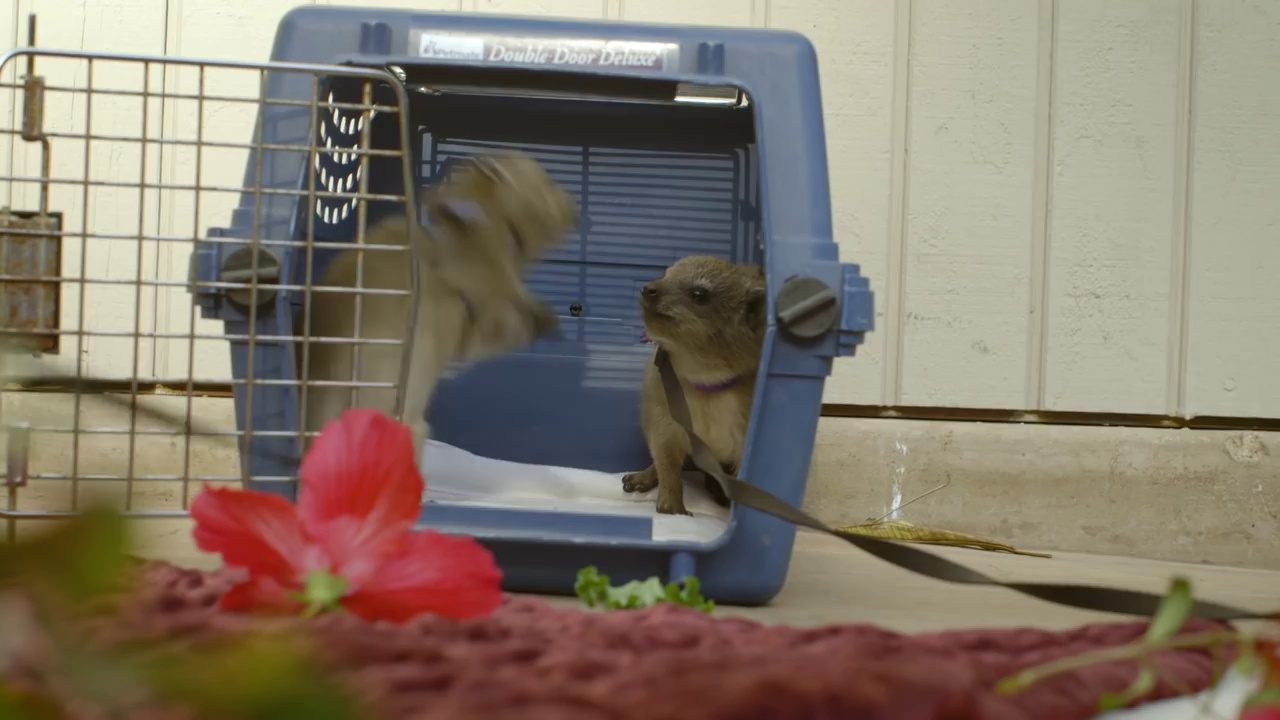Rock Hyrex: (610, 246, 777, 521)
